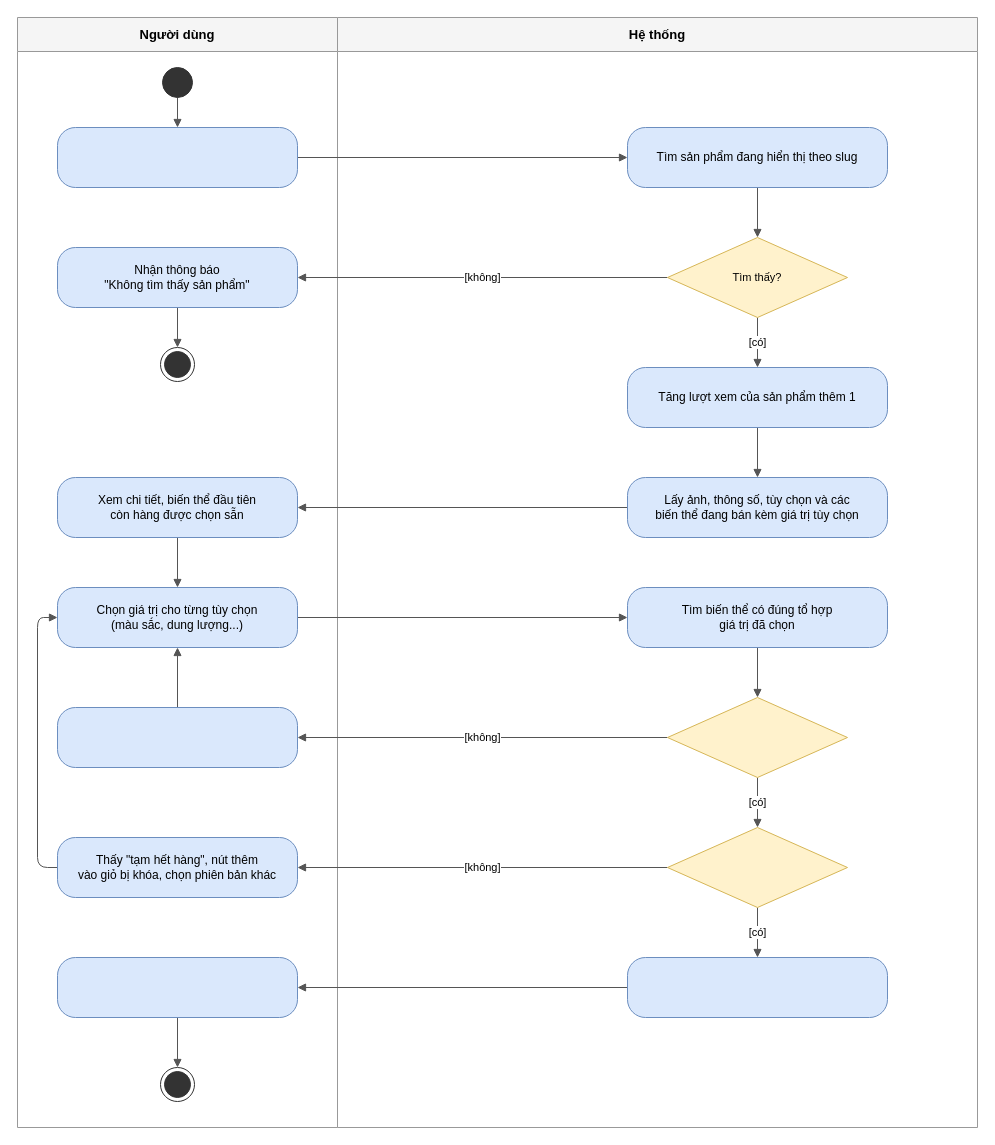
The diagram is 995 pixels wide and 1145 high, and some of its shapes have lost their labels. The shapes that lost their labels are listed below. From the top down, each one's centre as x and y in pixels, then its label:
pixel 177 157: Chọn một sản phẩm
pixel 177 737: Thấy "Phiên bản này hiện không có", chọn lại
pixel 757 737: Có biến thể khớp?
pixel 757 867: Còn hàng?
pixel 177 987: Chọn số lượng, thêm vào giỏ hàng
pixel 757 987: Hiện giá, giá gốc, tồn kho, SKU của biến thể; cho phép thêm vào giỏ
